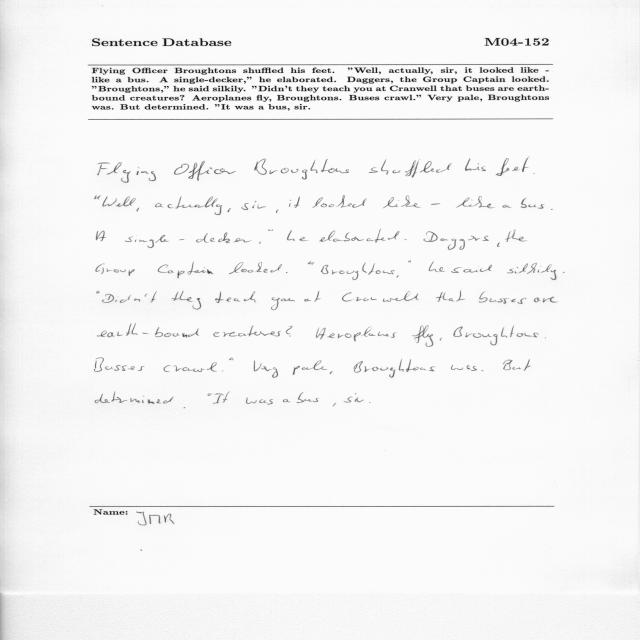word: (125, 232, 252, 248), (254, 159, 349, 180), (354, 359, 436, 378), (453, 326, 532, 345), (369, 160, 452, 178), (97, 324, 199, 338), (321, 262, 395, 280), (155, 196, 222, 215), (423, 231, 489, 250), (174, 161, 236, 181), (98, 162, 156, 183), (316, 327, 397, 342), (320, 229, 400, 243), (158, 262, 214, 279), (507, 263, 557, 280), (342, 291, 418, 302), (95, 392, 161, 404), (214, 326, 282, 337), (313, 195, 367, 208), (95, 358, 145, 372), (102, 291, 157, 303), (229, 262, 282, 274), (479, 292, 527, 304), (172, 291, 201, 310), (163, 362, 217, 372), (293, 360, 328, 375), (96, 263, 135, 276), (215, 291, 256, 303), (456, 196, 495, 208), (413, 325, 434, 347), (383, 196, 421, 208), (496, 158, 520, 176), (254, 360, 278, 378), (102, 196, 136, 207), (451, 265, 492, 273), (271, 298, 296, 311), (436, 291, 465, 302), (503, 360, 531, 371), (465, 158, 486, 171), (505, 229, 526, 242), (521, 198, 545, 209), (297, 392, 319, 403), (287, 230, 308, 241), (241, 201, 266, 210), (344, 393, 364, 403), (213, 392, 229, 404), (246, 398, 273, 405), (304, 291, 321, 302), (429, 261, 445, 272), (451, 365, 477, 371), (534, 297, 557, 303), (289, 196, 300, 208), (96, 231, 106, 241), (522, 158, 528, 172), (163, 397, 173, 404), (286, 326, 292, 337), (502, 205, 512, 208), (533, 333, 538, 338), (95, 196, 101, 200), (308, 261, 314, 265), (283, 399, 290, 402), (431, 203, 440, 205), (497, 242, 500, 247), (208, 393, 213, 396), (136, 208, 139, 212), (228, 208, 231, 212), (276, 209, 279, 213), (268, 229, 273, 231), (229, 358, 234, 360), (408, 260, 411, 263), (330, 371, 333, 374), (333, 403, 336, 406), (96, 291, 100, 293), (259, 241, 261, 244), (397, 275, 399, 278), (440, 338, 442, 340), (404, 239, 407, 240), (551, 209, 553, 210), (286, 272, 288, 273), (563, 272, 565, 273), (482, 371, 484, 372), (358, 397, 359, 398), (222, 371, 223, 371)
